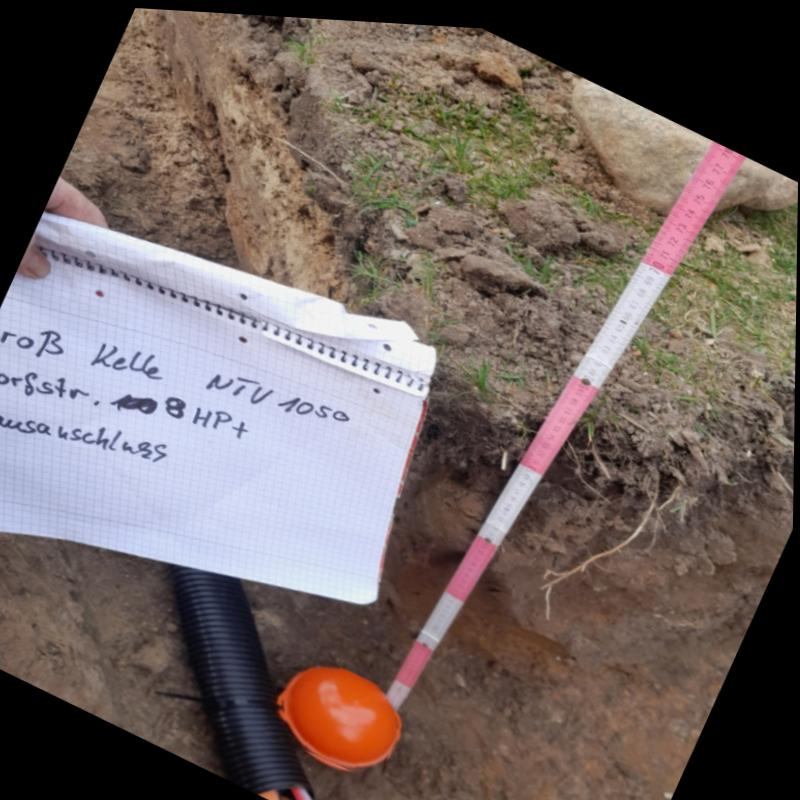Kugelmarker: (286, 660, 404, 765)
